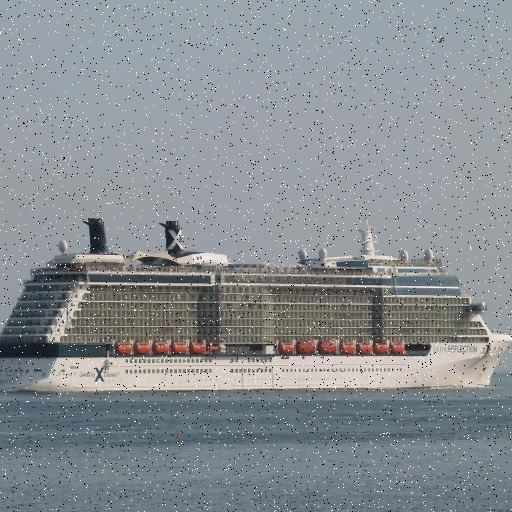cruises: (1, 216, 512, 398)
